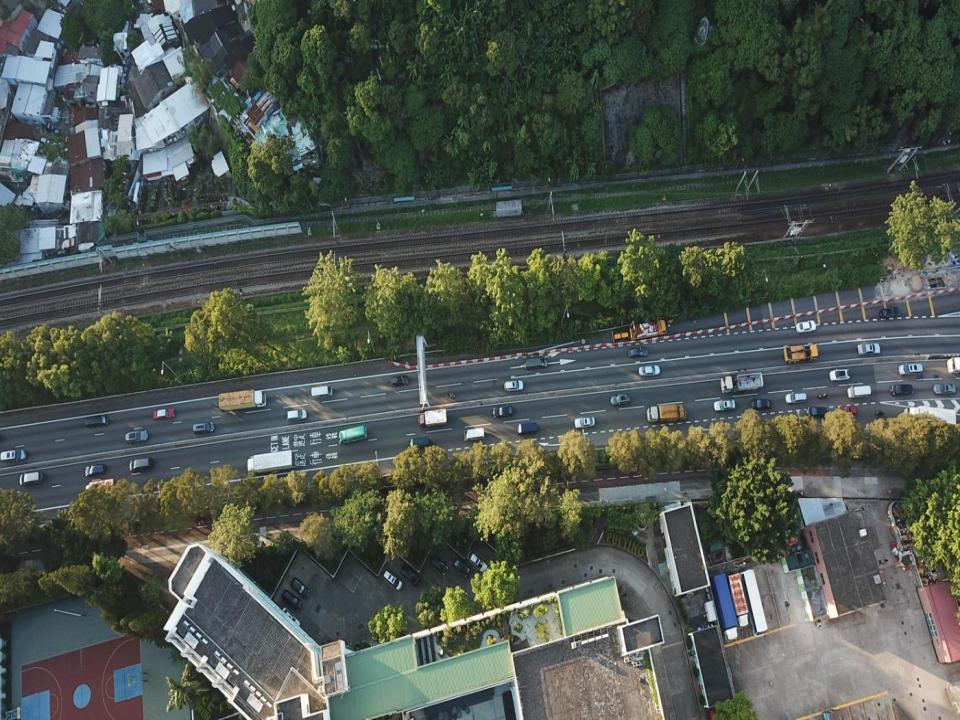bus: (740, 569, 768, 637), (339, 426, 367, 444)
car: (291, 578, 310, 600), (282, 606, 299, 627), (123, 430, 148, 444), (283, 591, 301, 610), (431, 556, 448, 576), (470, 554, 486, 574), (889, 383, 913, 396), (84, 463, 106, 477), (713, 398, 735, 412), (795, 319, 816, 333), (453, 560, 469, 578), (829, 368, 851, 381), (857, 342, 880, 354), (879, 307, 900, 320), (638, 364, 660, 376), (492, 406, 513, 418), (153, 408, 175, 419), (932, 384, 956, 394), (805, 406, 828, 416), (575, 416, 594, 428), (610, 394, 629, 406), (504, 379, 523, 391), (391, 376, 409, 388), (628, 346, 648, 356), (751, 400, 771, 410), (838, 406, 856, 415)
truck: (712, 573, 737, 640), (612, 319, 666, 343), (728, 573, 750, 629), (218, 389, 266, 412), (246, 449, 294, 472), (720, 371, 763, 395), (646, 403, 687, 422), (783, 344, 817, 364), (417, 409, 446, 428)
van: (384, 571, 403, 591), (0, 448, 26, 462), (524, 356, 548, 371), (20, 471, 42, 487), (401, 567, 419, 586), (847, 385, 871, 399), (85, 414, 108, 428), (129, 458, 152, 472), (516, 421, 538, 435), (192, 422, 215, 435), (310, 386, 332, 399), (898, 364, 923, 375), (784, 392, 806, 404), (409, 436, 430, 448), (464, 428, 484, 440), (286, 410, 306, 421)
